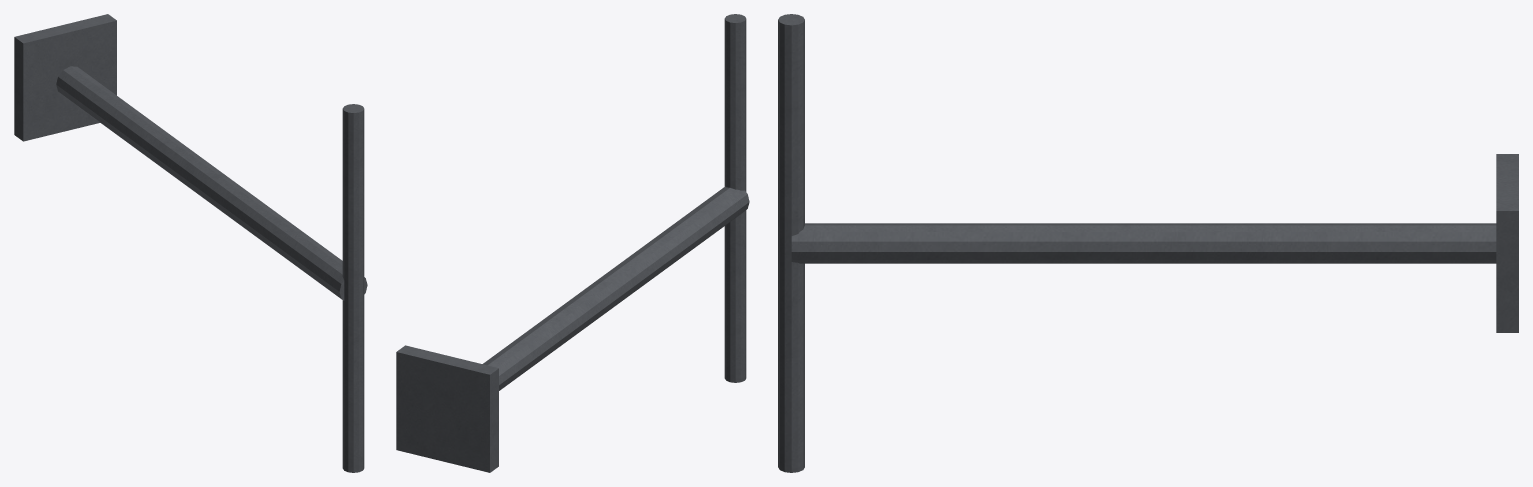
File: weather_mast.glb
The picture shows the model from 3 angles, left to right: view 1: azimuth 30°, elevation 25°; view 2: azimuth 150°, elevation 25°; view 3: azimuth 270°, elevation 25°; orthographic projection. The views are drawn at different scales.
Visible parts, largest first — view 1: weather_mast; view 2: weather_mast; view 3: weather_mast.
Boxes of the visible parts, left/top/right/bottom form: weather_mast: left=14, top=14, right=367, bottom=472; weather_mast: left=396, top=14, right=749, bottom=472; weather_mast: left=778, top=14, right=1518, bottom=472.
Bounding box in the file's own units: 0.3 × 1.1 × 1.65.
1 material, 1 textured.
